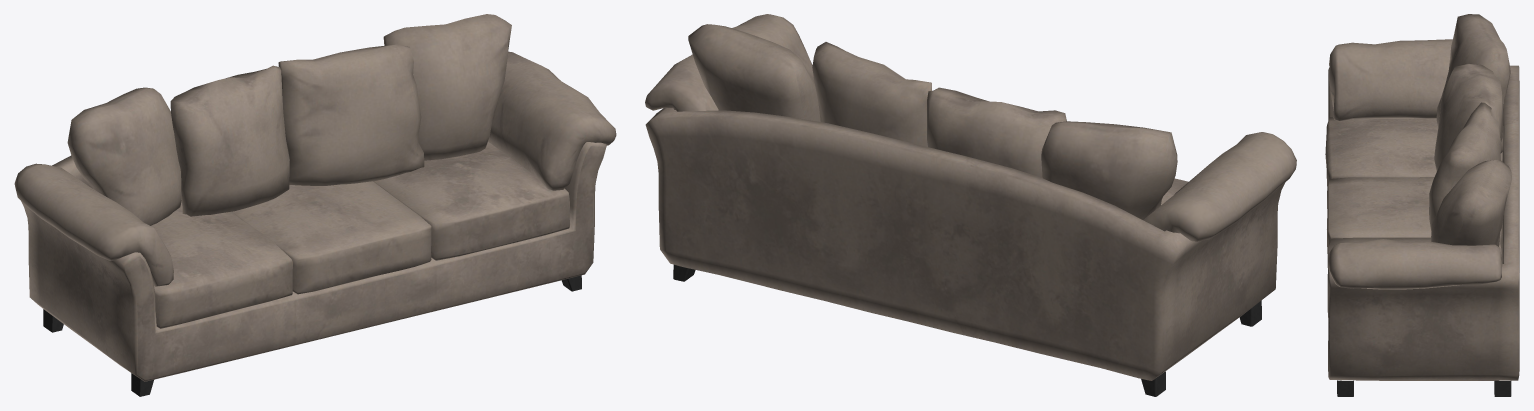
File: sofa.glb
3 renders of one model, left to right at view 1: azimuth 30°, elevation 25°; view 2: azimuth 150°, elevation 25°; view 3: azimuth 270°, elevation 25°, orthographic. The views are drawn at different scales.
Parts seen in each view (by area): view 1: node_Couch_03_9976_1; view 2: node_Couch_03_9976_1; view 3: node_Couch_03_9976_1.
Part boxes in pixels (x1,y1,x2,y2): node_Couch_03_9976_1: (14, 14, 616, 396); node_Couch_03_9976_1: (645, 14, 1296, 396); node_Couch_03_9976_1: (1325, 14, 1519, 396).
Bounding box in the file's own units: 2.26 × 0.9226 × 0.8121.
1 material, 1 textured.
